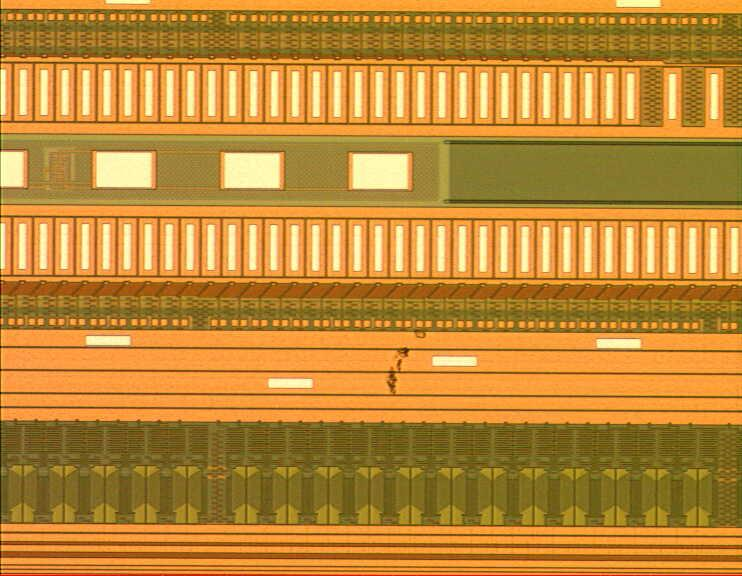SCRATCH: (378, 310, 444, 404)
